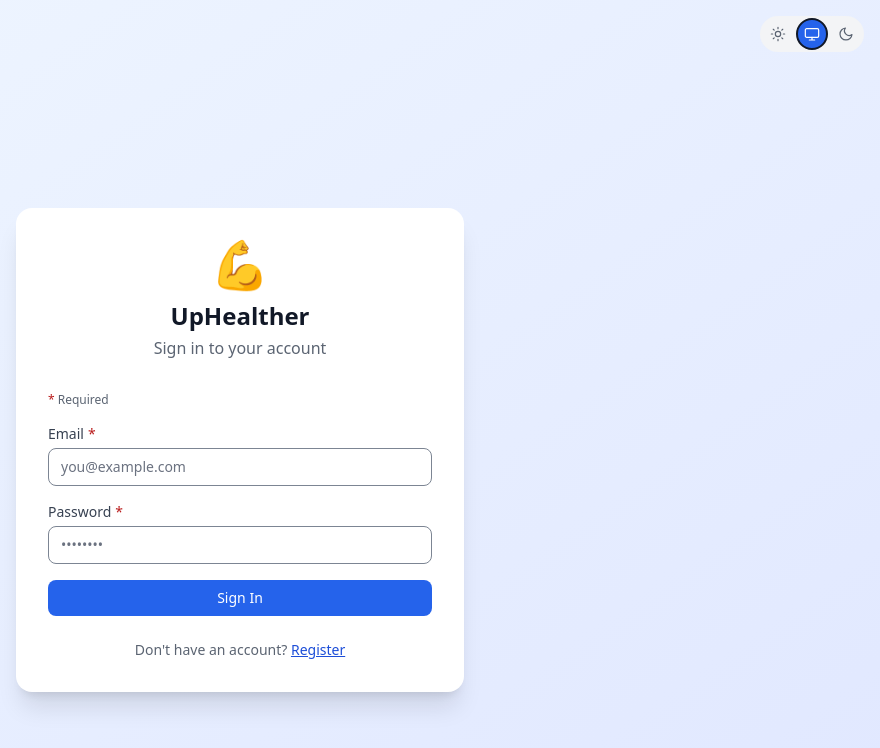
it: LoginPage › GivenCredentialsTheServerRejects_WhenTheFormIsSubmitted_ThenAnErrorIsShownAndNothingNavigates
This screenshot has width=880, height=748.
In the field labelled "Email": (240, 467) [48, 448, 432, 486], type "someone@example.com"
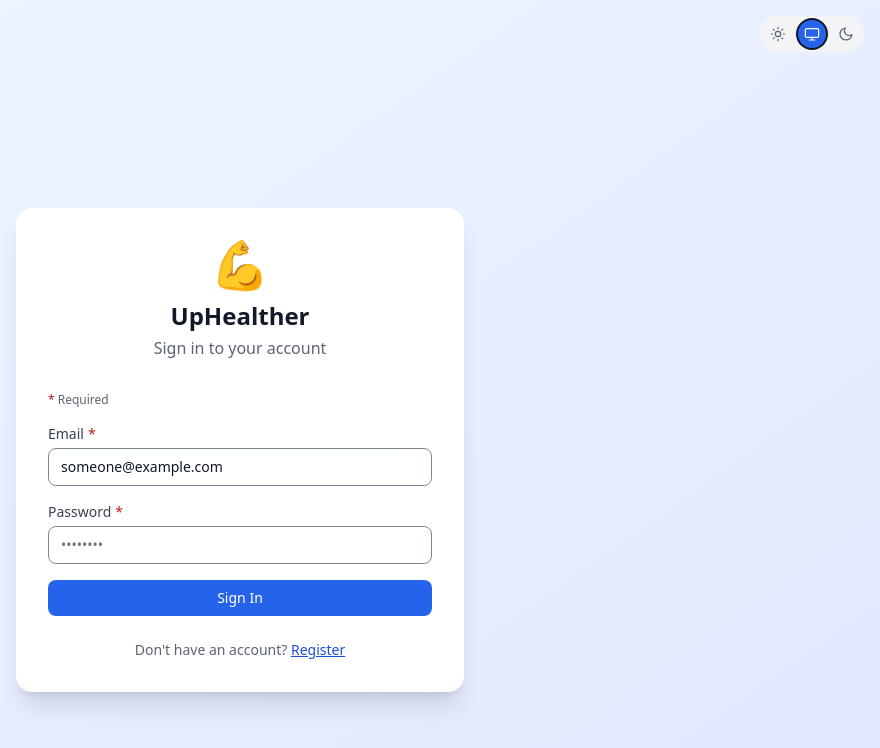
In the password field labelled "Password": (240, 545) [48, 526, 432, 564], type "s3cret!"
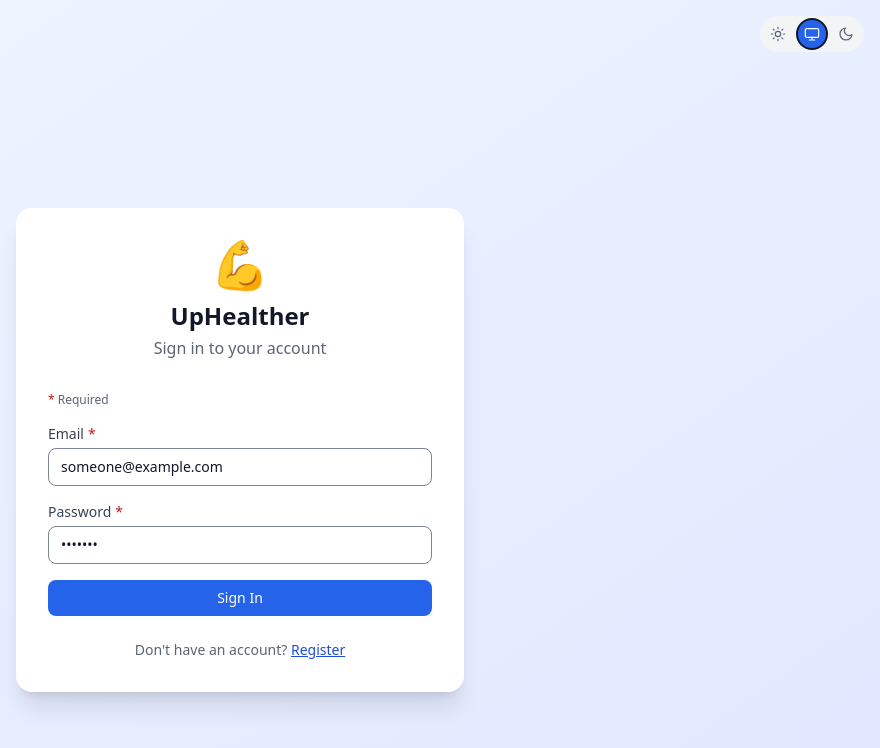
Submit the form from the button "Sign In", box [48, 580, 432, 616]
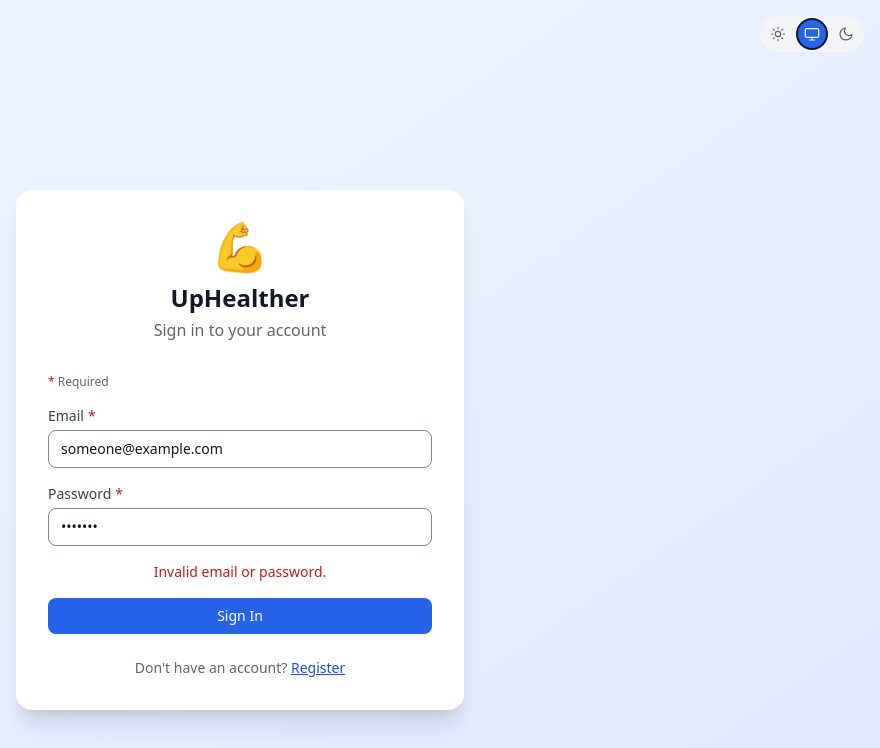
Now the text "Invalid email or password." is shown, box [154, 562, 326, 581]
